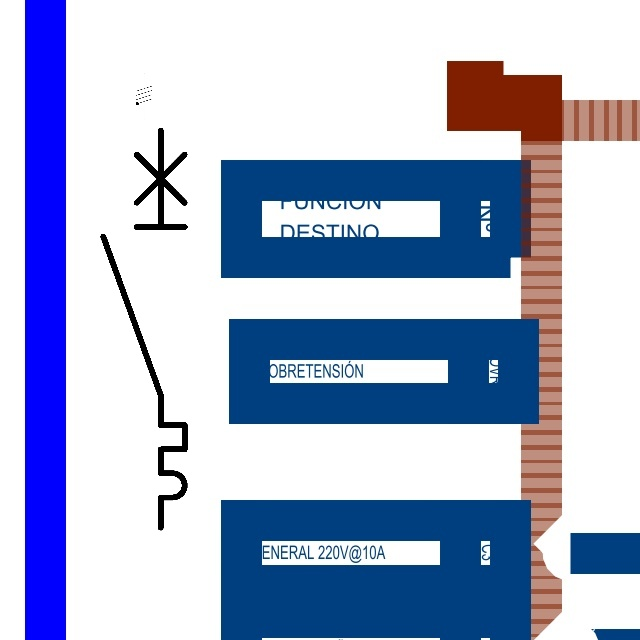interruptor_termomagnetico: (93, 120, 195, 538)
